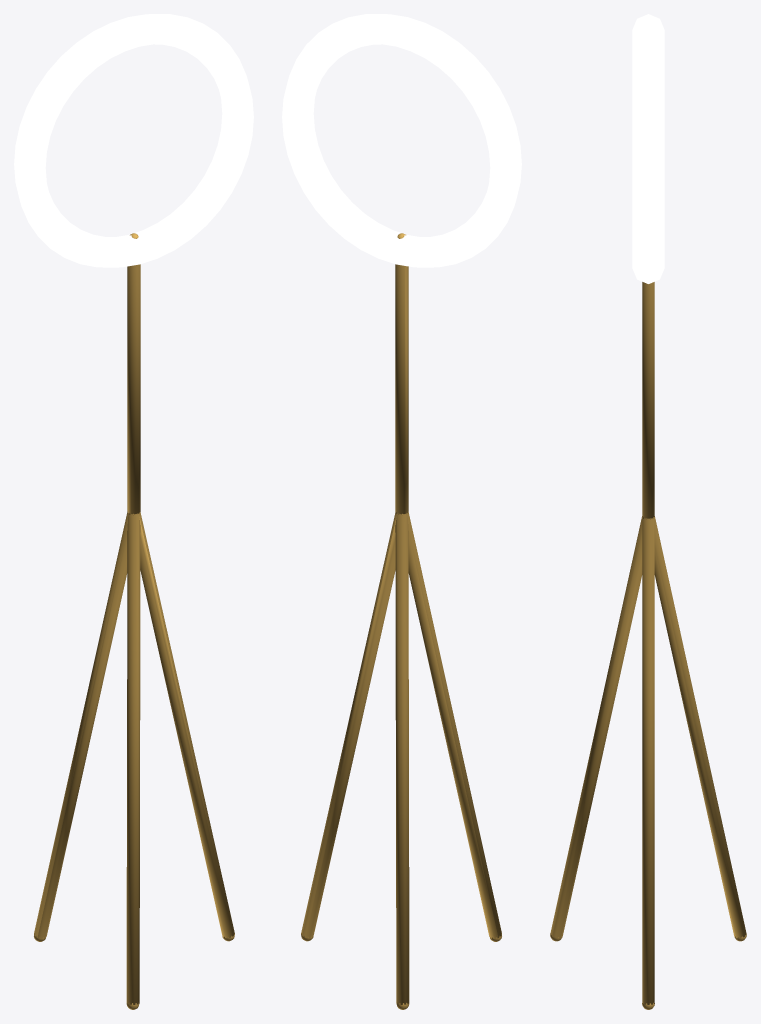
File: gift-jade.glb
The picture shows the model from 3 angles, left to right: view 1: azimuth 30°, elevation 25°; view 2: azimuth 150°, elevation 25°; view 3: azimuth 270°, elevation 25°; orthographic projection.
Visible parts, largest first — view 1: gift-jade; view 2: gift-jade; view 3: gift-jade.
Boxes of the visible parts, x1=… form: gift-jade: x1=14, y1=14, x2=253, y2=1009; gift-jade: x1=282, y1=14, x2=521, y2=1009; gift-jade: x1=550, y1=14, x2=746, y2=1009.
Size of the model in its own units: 0.5 by 1.91 by 0.364.
